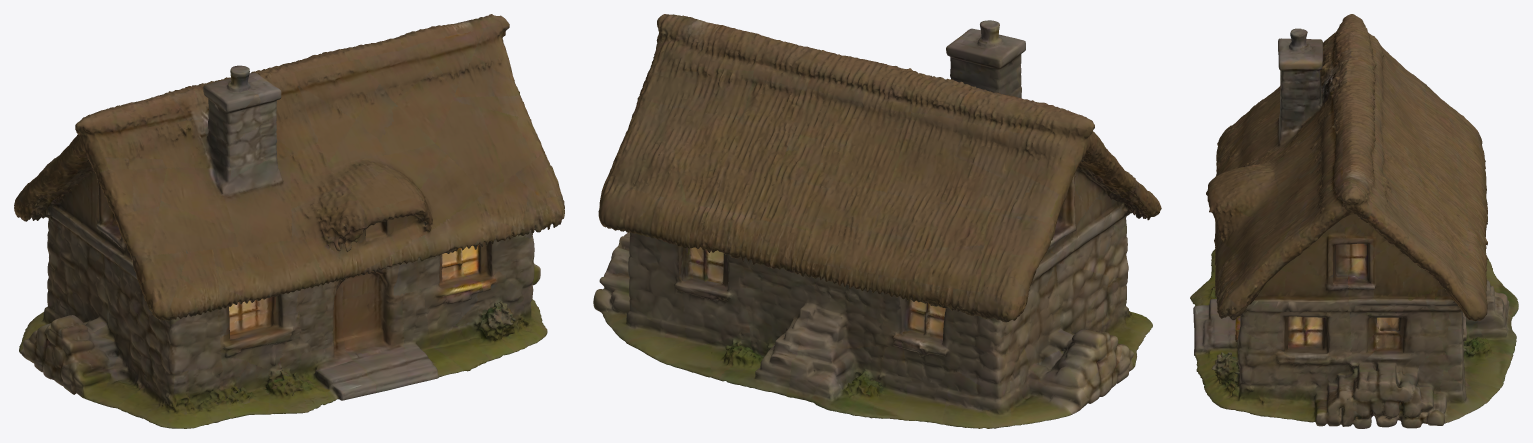
The model's file is building 6.glb.
The picture shows the model from 3 angles, left to right: view 1: azimuth 30°, elevation 25°; view 2: azimuth 150°, elevation 25°; view 3: azimuth 270°, elevation 25°; orthographic projection. The views are drawn at different scales.
Size of the model in its own units: 1.99 by 1.25 by 1.38.
1 material, 1 textured.
